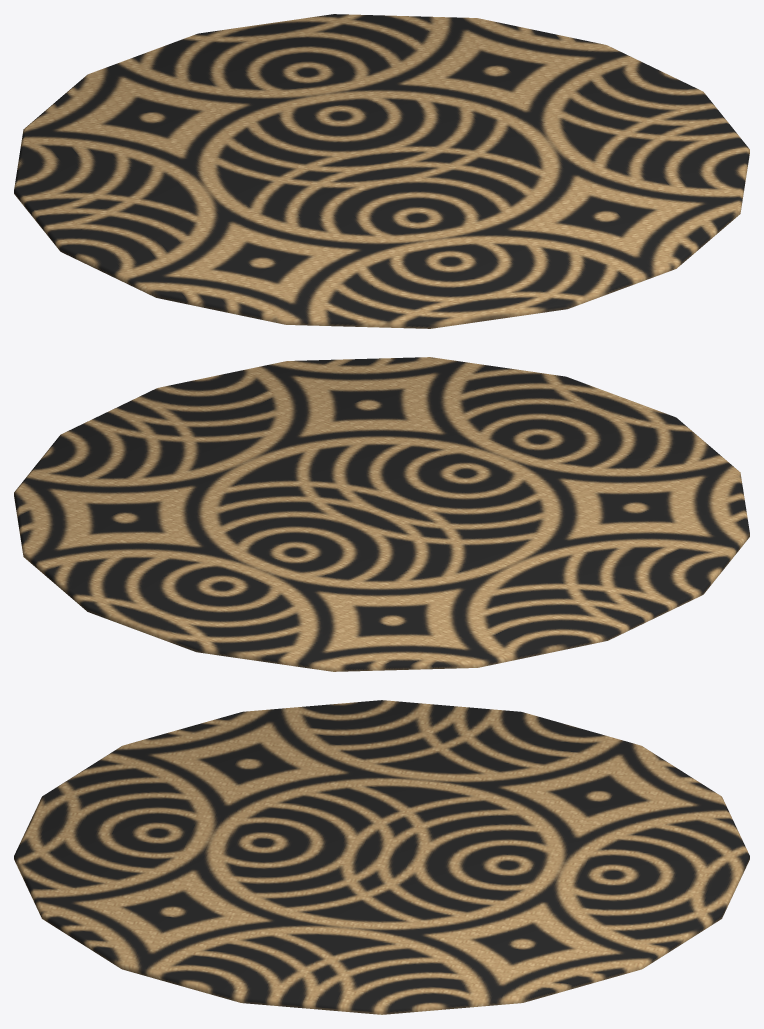
Rendered from rugs_and_pillows_circle_rug.fbx.
3 views of the same model, one above another, from view 1: azimuth 30°, elevation 25°; view 2: azimuth 150°, elevation 25°; view 3: azimuth 270°, elevation 25° (orthographic).
Visible parts, largest first — view 1: Plane.017; view 2: Plane.017; view 3: Plane.017.
Boxes of the visible parts, x1,y1,x2,y2 form: Plane.017: [14, 14, 749, 328]; Plane.017: [14, 357, 749, 671]; Plane.017: [14, 700, 749, 1014].
Bounding box in the file's own units: 227 × 1.7 × 227.
